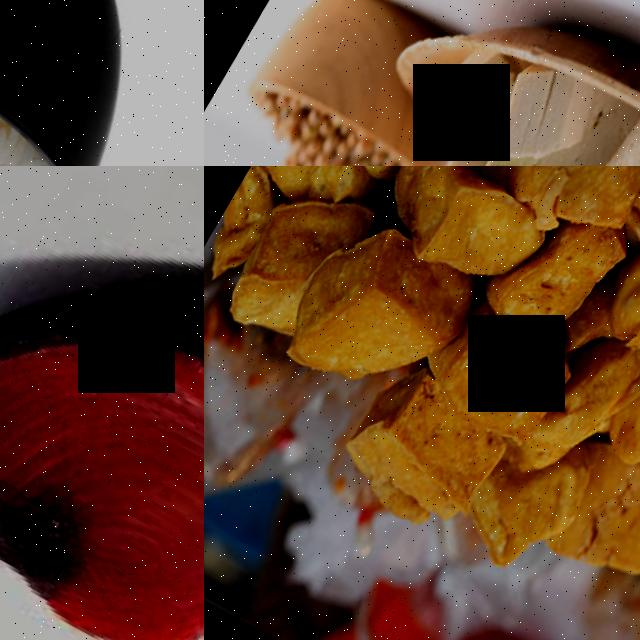tofu: (267, 206, 470, 414), (330, 353, 531, 545), (413, 304, 585, 464), (555, 421, 640, 603), (478, 56, 607, 166), (417, 38, 535, 157), (497, 166, 640, 257), (588, 211, 640, 397)
tuna: (0, 311, 204, 640)
white rice: (0, 0, 104, 166)
